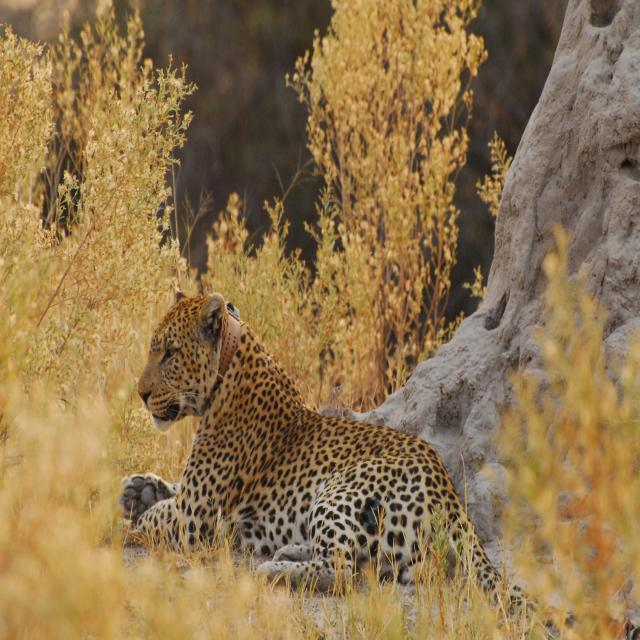Leopard: (118, 275, 640, 640)
